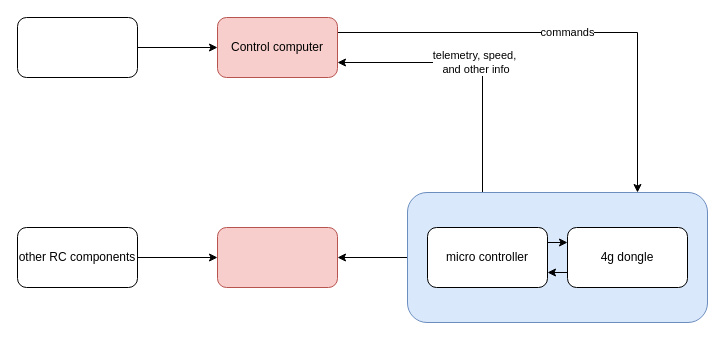
Some shapes in this 725 by 340 pixel diagram are drawn without their labels. Here are the shapes that lost their labels. From the top down, the centre of each, then its label:
the point at 77,47: User interface
the point at 277,257: Rc ESC
